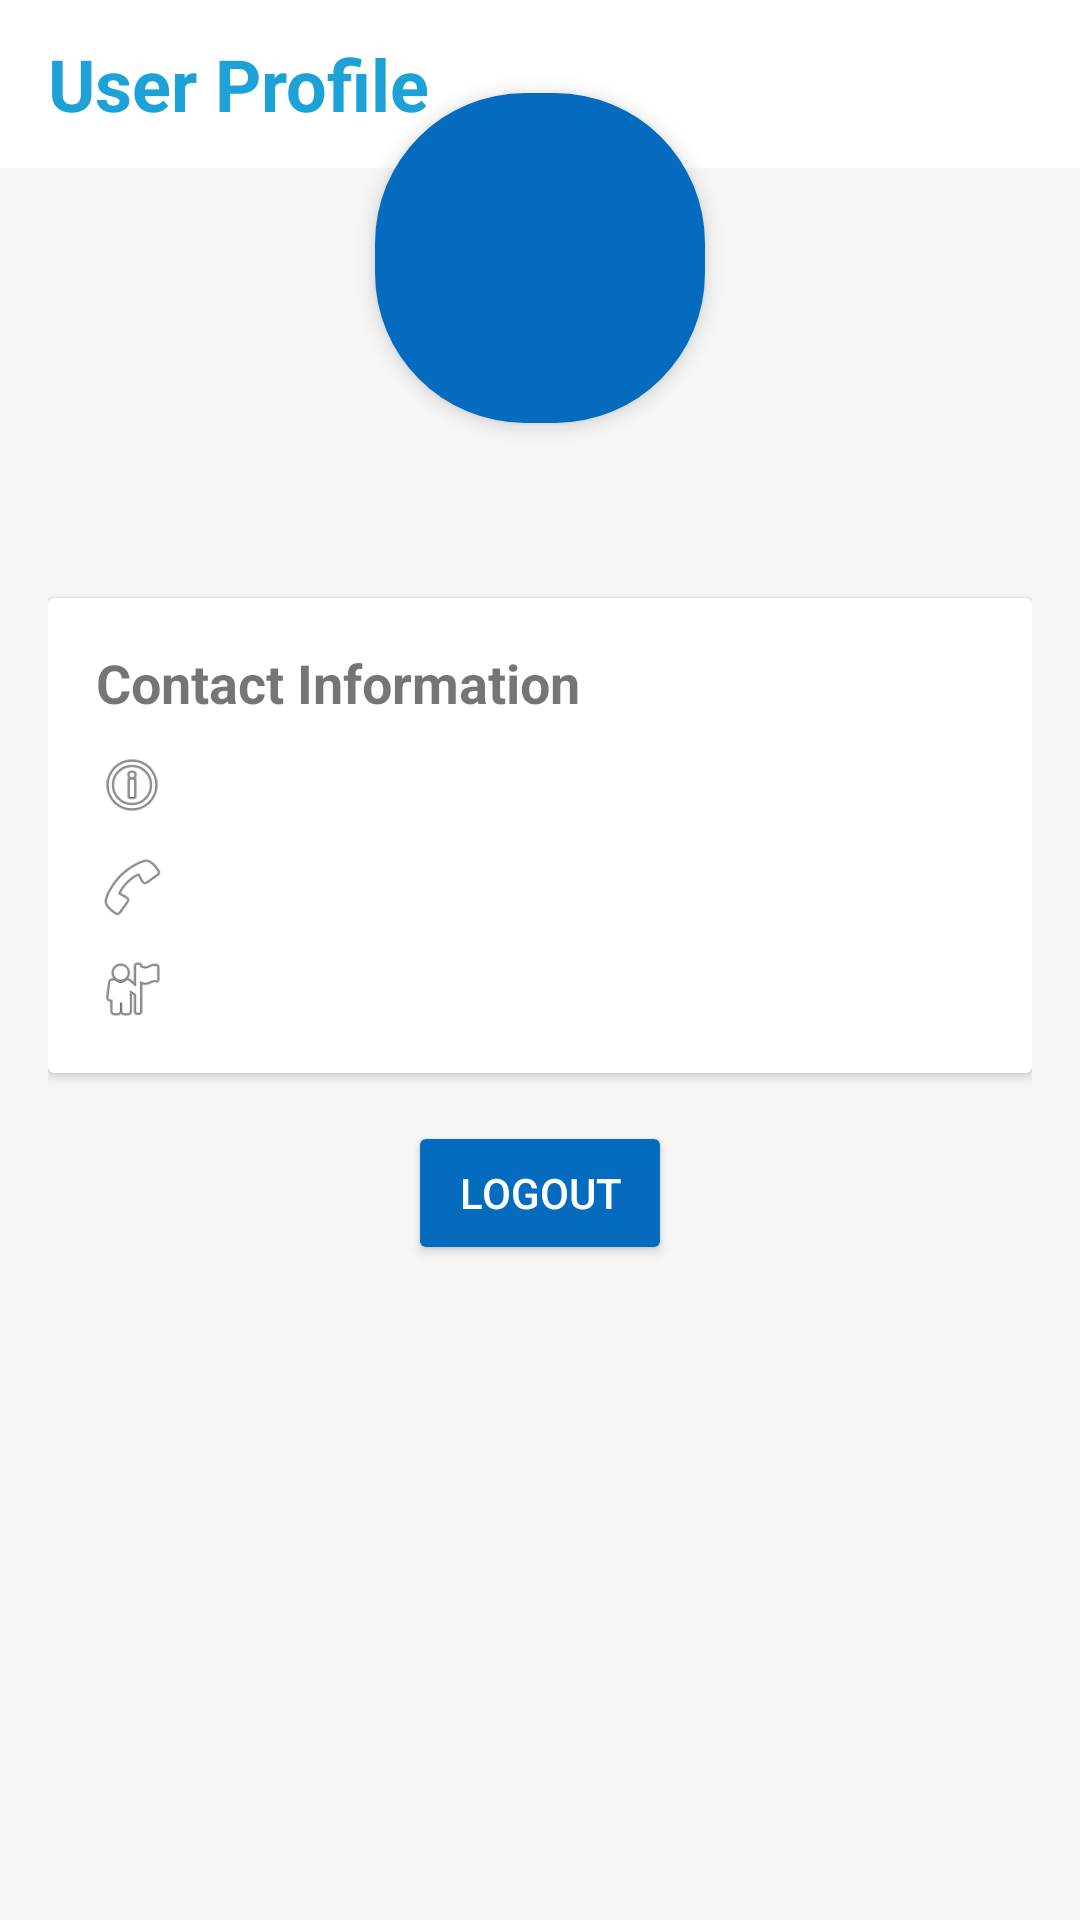

Icons on this 1080 x 1920 Android screen, each with the point to tap as (x=x, y=y):
call: (x=132, y=887)
info details: (x=132, y=785)
myplaces: (x=133, y=989)
